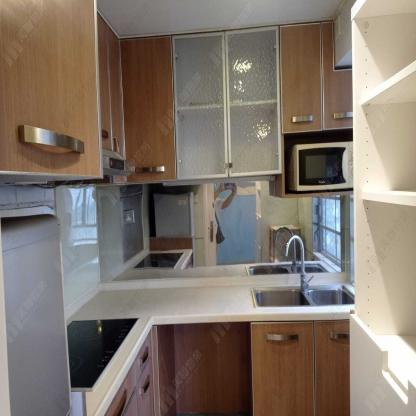Cupboard: (119, 26, 283, 183)
Faucet: (283, 234, 315, 289)
Microwave: (288, 137, 354, 194)
Sink: (244, 282, 355, 315)
Stove: (66, 310, 152, 407)
